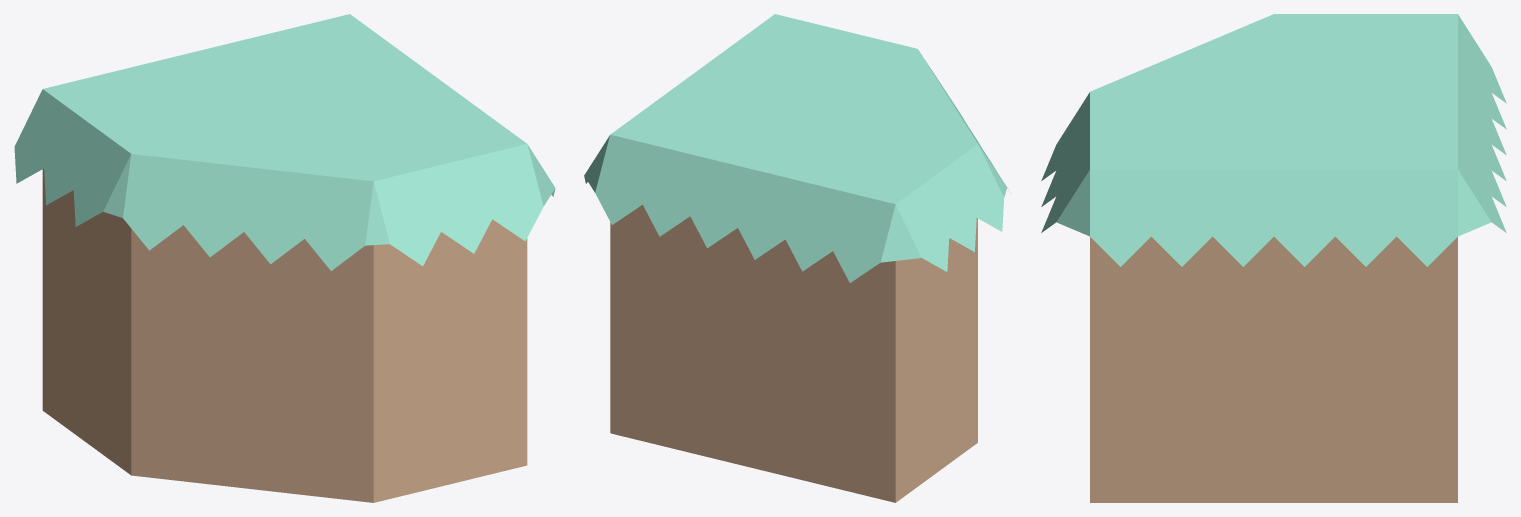
The picture shows the model from 3 angles, left to right: view 1: azimuth 30°, elevation 25°; view 2: azimuth 150°, elevation 25°; view 3: azimuth 270°, elevation 25°; orthographic projection. The views are drawn at different scales.
Visible parts, largest first — view 1: blockCornerSmall; view 2: blockCornerSmall; view 3: blockCornerSmall.
Boxes of the visible parts, x1=… form: blockCornerSmall: x1=14, y1=14, x2=555, y2=502; blockCornerSmall: x1=584, y1=14, x2=1010, y2=502; blockCornerSmall: x1=1041, y1=14, x2=1506, y2=502.
Bounding box in the file's own units: 1.27 × 1 × 1.27.
